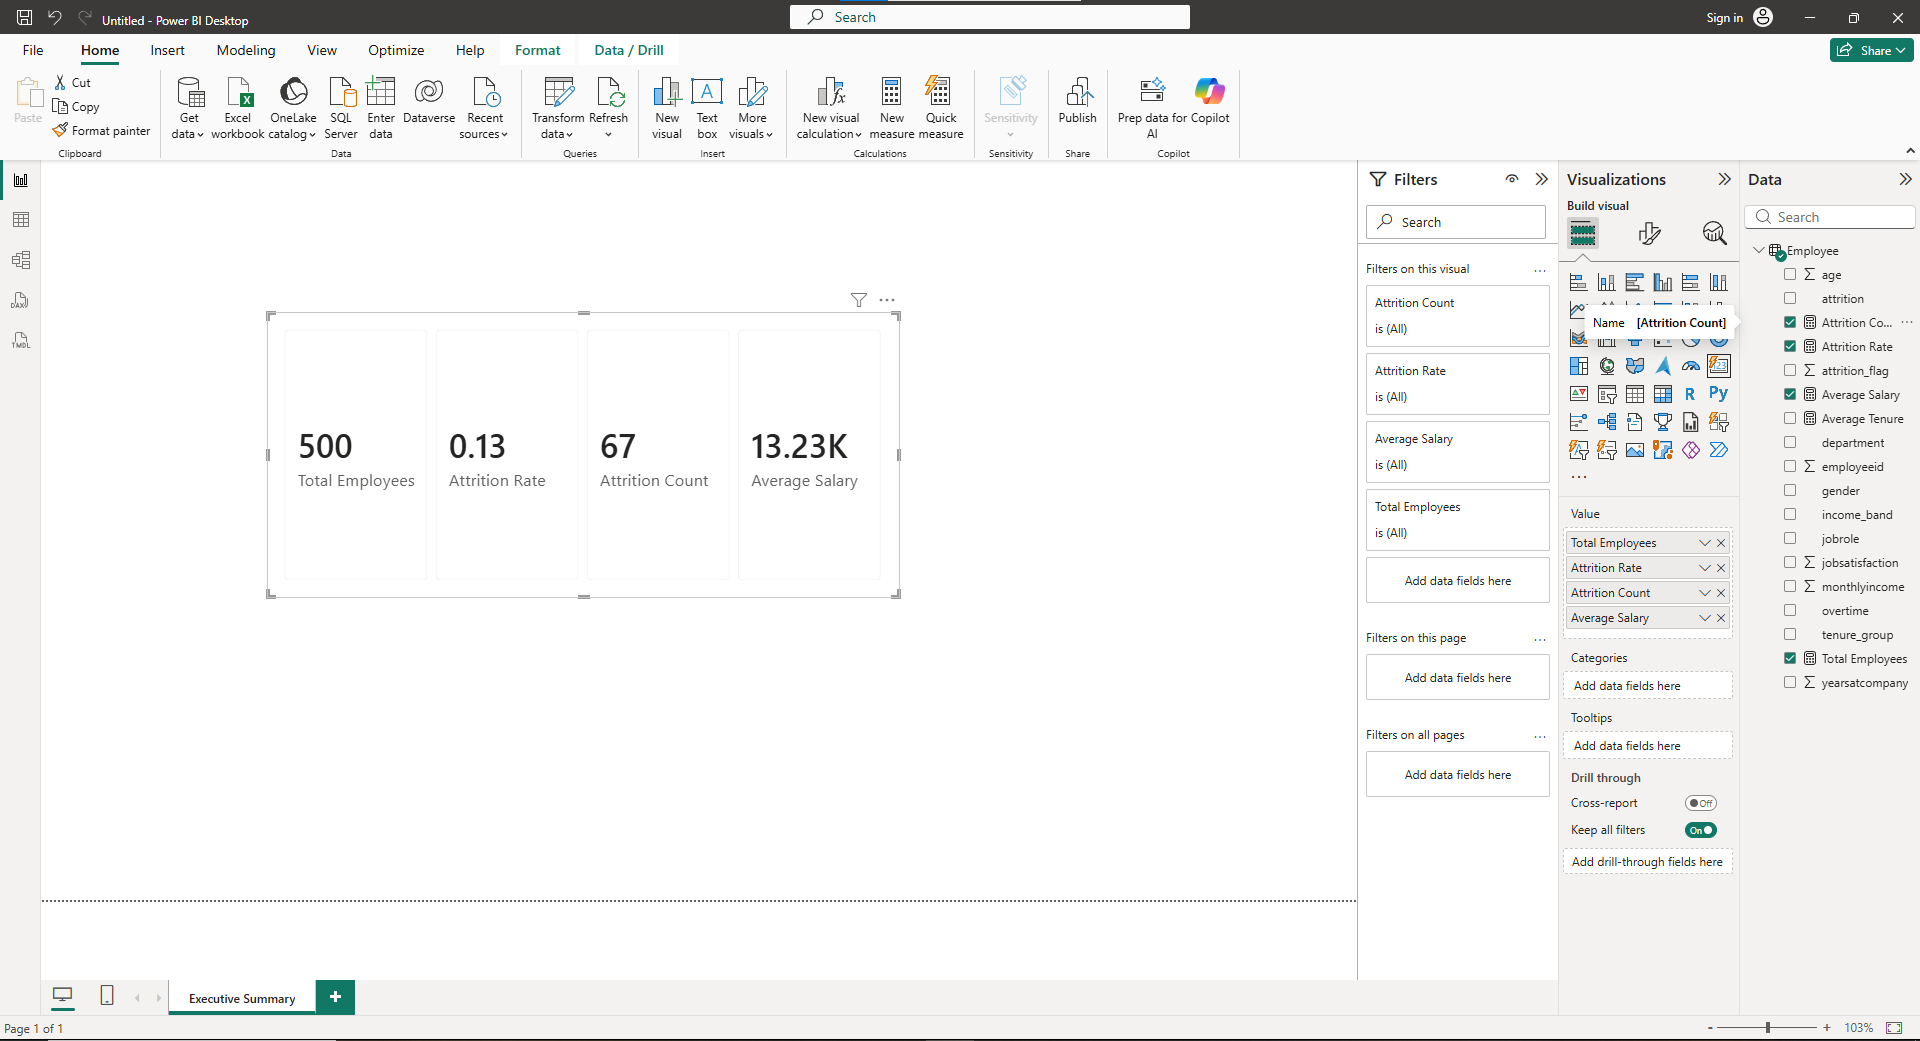

The dashboard page shown, as its layout file describes it:
{"tool":"powerbi","page":{"name":"Executive Summary ","canvas":[1280,720],"ordinal":0},"visuals":[{"type":"cardVisual","fields":{"Data":["Employee.Total Employees","Employee.Attrition Rate","Employee.Attrition Count","Employee.Average Salary"]},"box":[219.8,147.8,615.7,278.2],"z":0},{"type":"textbox","box":[350,10,300.5,42.8],"z":1000},{"type":"textbox","box":[950,686,300.5,33.1],"z":2000}]}

Visuals, with their boxes on the page's 1280x720 design canvas (x1, y1, x2, y2). These are canvas units, not pixel positions in the 1920x1041 screenshot, which may show the page scaled, cropped or inside an application window:
cardVisual - Employee.Total Employees x Employee.Attrition Rate: 220, 148, 836, 426
textbox: 350, 10, 650, 53
textbox: 950, 686, 1250, 719
